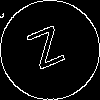Z: (25, 25, 72, 79)
